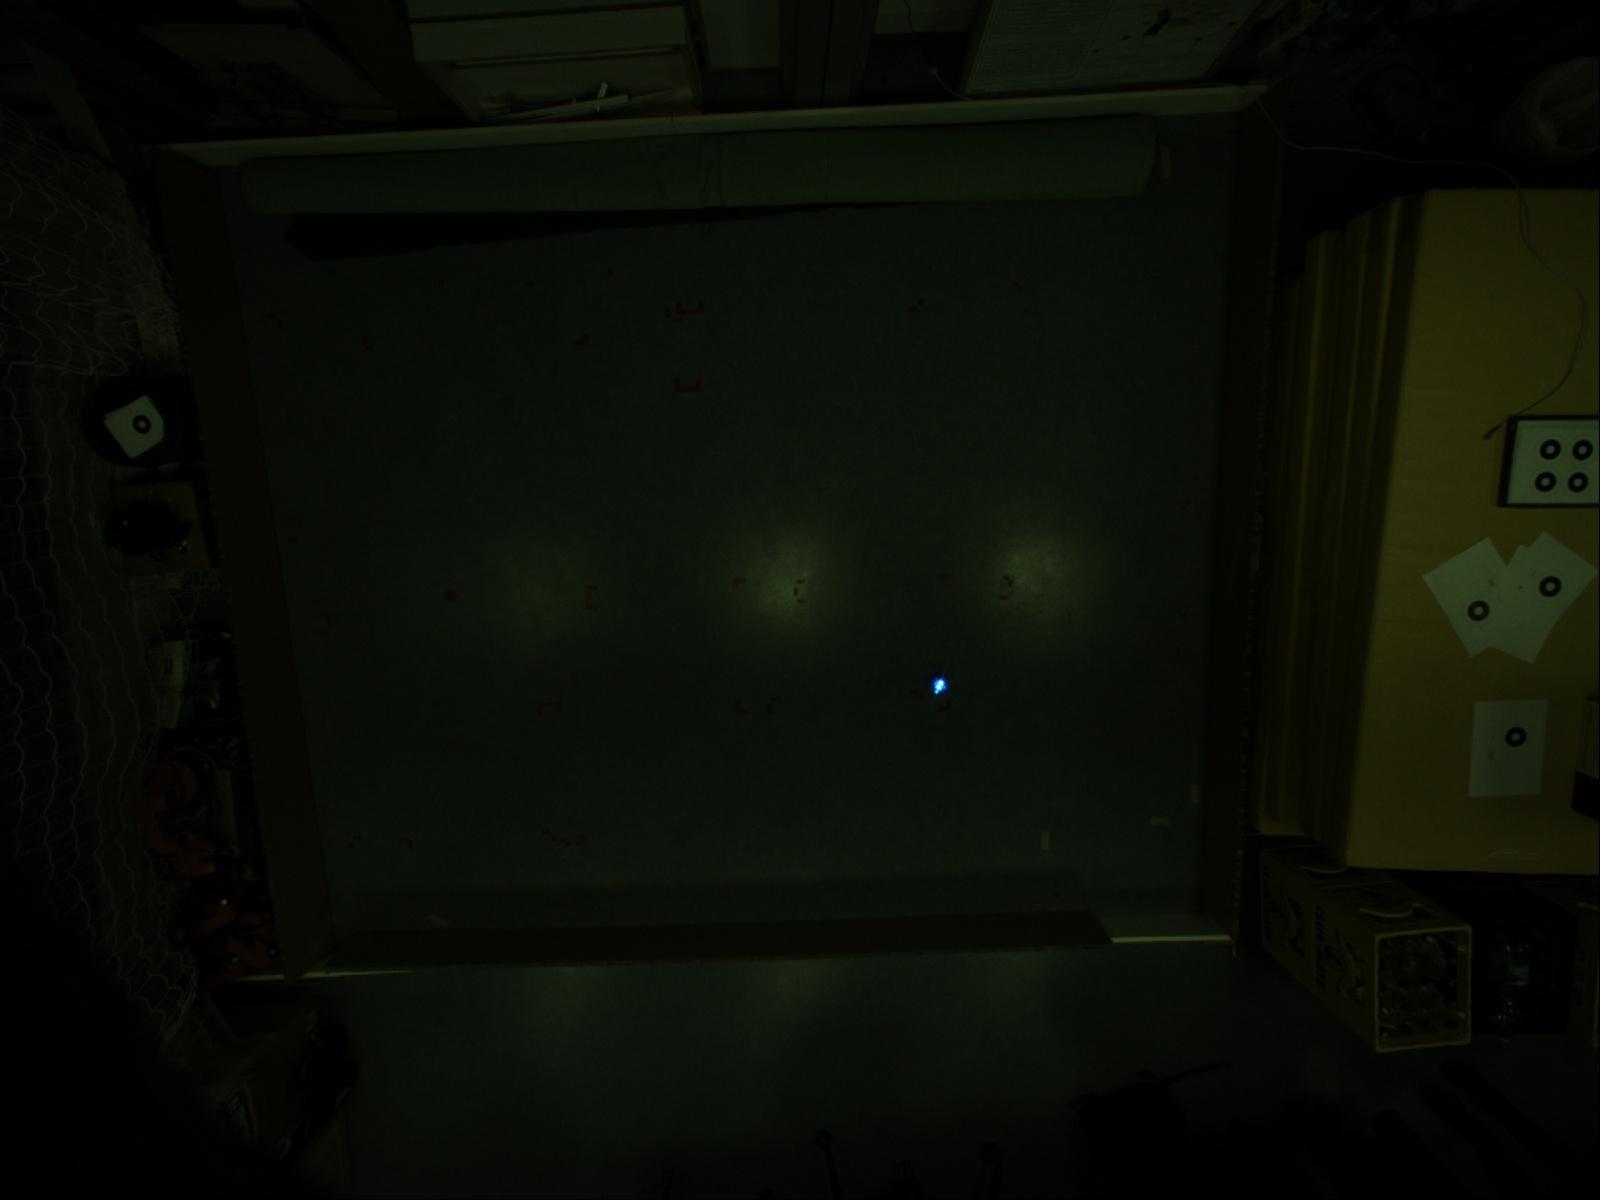sphero: (925, 669, 955, 701)
